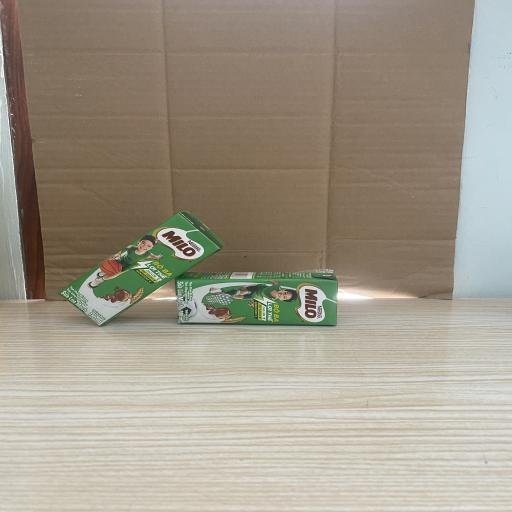milo: (57, 211, 225, 326), (175, 269, 339, 326)
